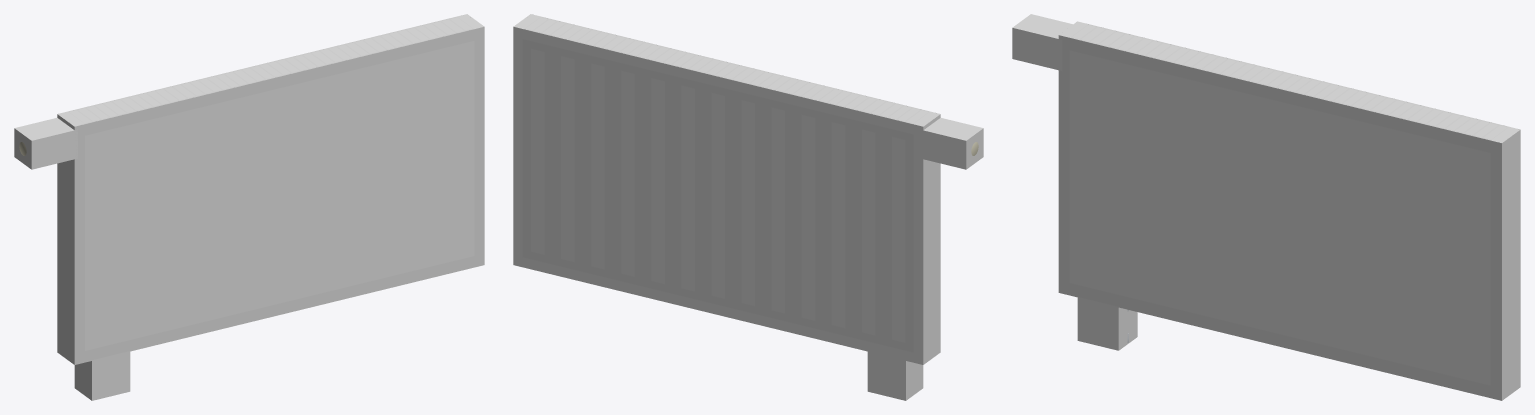
Rendered from budres_900.fbx.
The picture shows the model from 3 angles, left to right: view 1: azimuth 30°, elevation 25°; view 2: azimuth 150°, elevation 25°; view 3: azimuth 330°, elevation 25°; orthographic projection. The views are drawn at different scales.
Visible parts, largest first — view 1: budres_900_COL_, budres_900_; view 2: budres_900_COL_, budres_900_; view 3: budres_900_COL_, budres_900_.
Boxes of the visible parts, x1,y1,x2,y2 form: budres_900_COL_: [14, 14, 484, 400]; budres_900_: [68, 16, 484, 364]; budres_900_COL_: [513, 14, 983, 400]; budres_900_: [522, 16, 929, 352]; budres_900_COL_: [1012, 14, 1520, 400]; budres_900_: [1059, 24, 1509, 400].
Size of the model in its own units: 0.9948 by 0.5842 by 0.066.
Materials: 8 (4 with a texture image).
